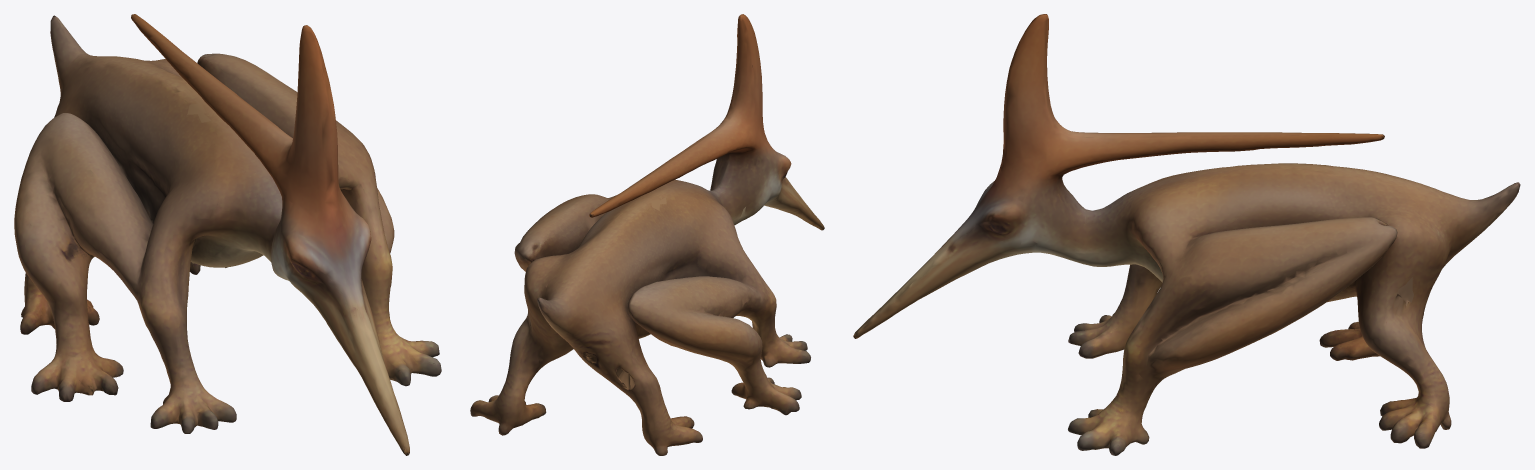
3 views of the same model, side by side, from view 1: azimuth 30°, elevation 25°; view 2: azimuth 150°, elevation 25°; view 3: azimuth 270°, elevation 25° (orthographic). The views are drawn at different scales.
Parts seen in each view (by area): view 1: world; view 2: world; view 3: world.
Boxes of the visible parts, <box> form: world: <box>14,14,441,455</box>; world: <box>470,14,824,455</box>; world: <box>853,14,1520,455</box>.
Bounding box in the file's own units: 0.6584 × 0.7479 × 1.2.
1 material, 1 textured.
